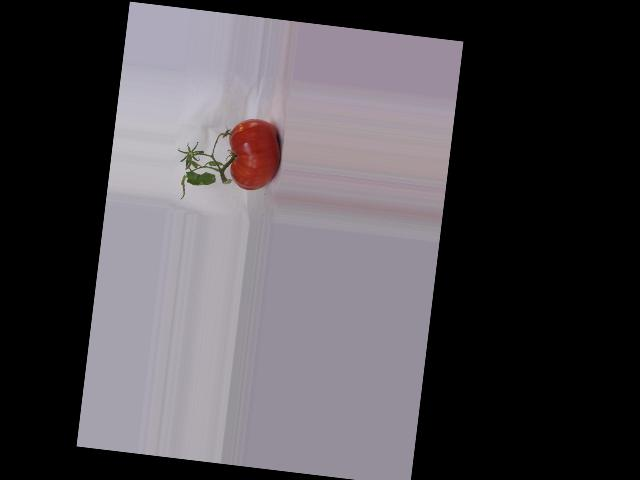tomato: (223, 115, 284, 193)
